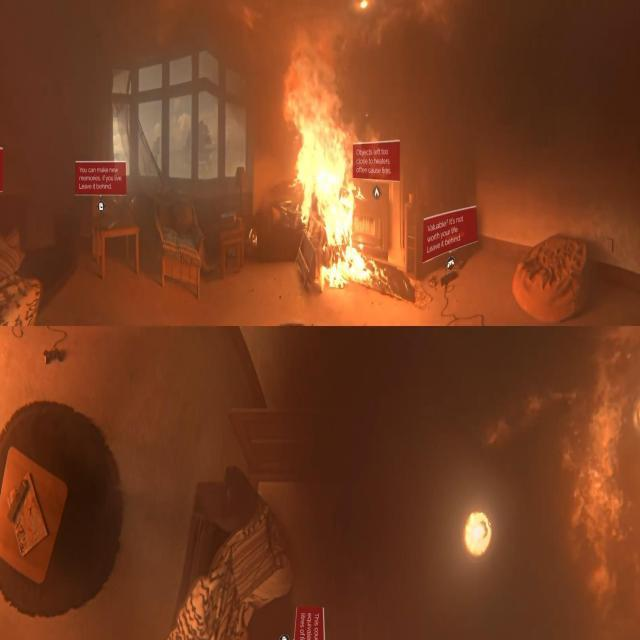smoke: (284, 92, 392, 288)
